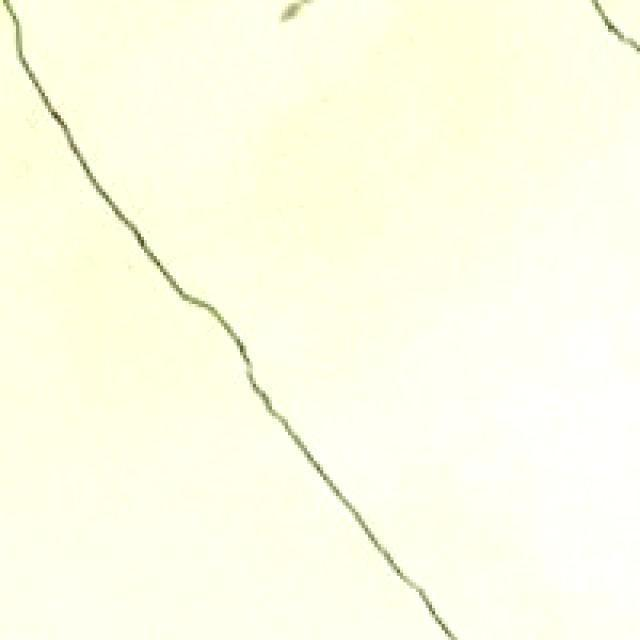minor crack: (0, 4, 522, 632)
